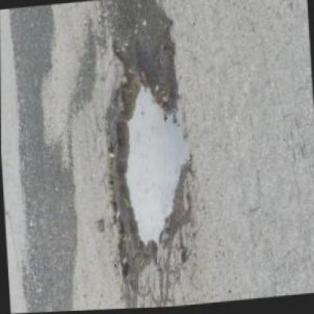Hueco: (93, 64, 198, 281)
